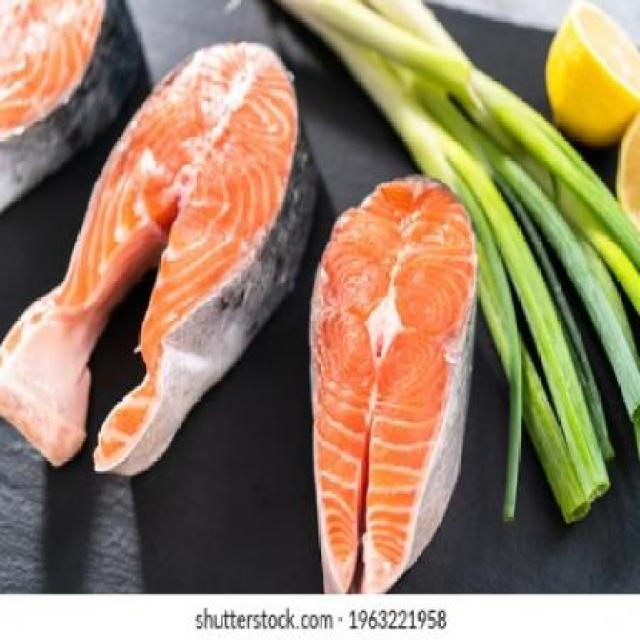salmon: (2, 37, 334, 485), (306, 154, 482, 597), (1, 3, 160, 239)
